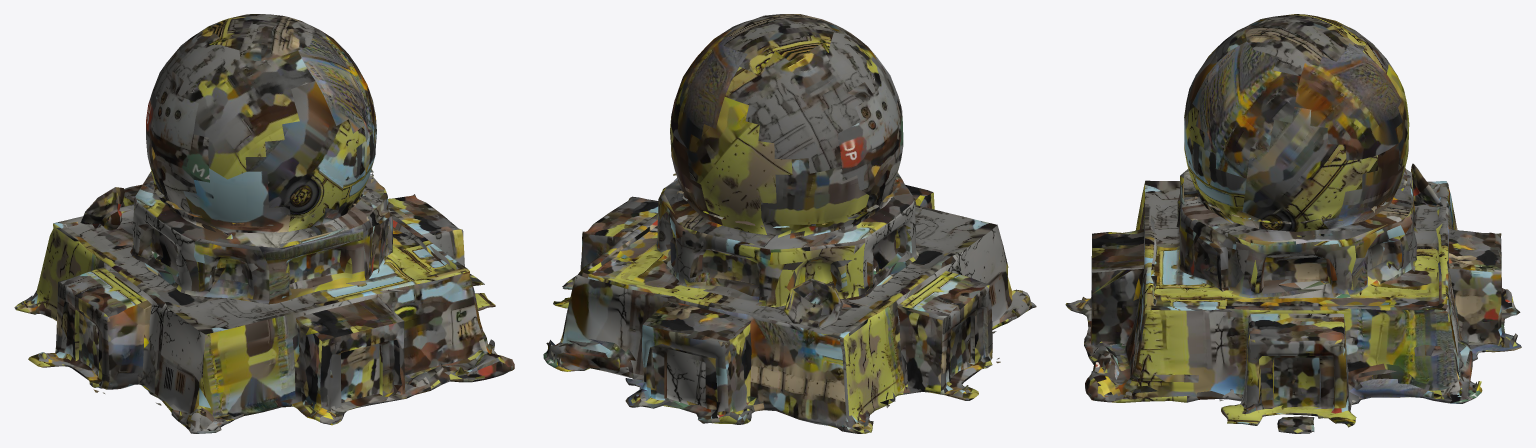
File: domo+geodésico+3d.fbx
The picture shows the model from 3 angles, left to right: view 1: azimuth 30°, elevation 25°; view 2: azimuth 150°, elevation 25°; view 3: azimuth 270°, elevation 25°; orthographic projection. The views are drawn at different scales.
Parts seen in each view (by area): view 1: tripo_node_dc60c37c; view 2: tripo_node_dc60c37c; view 3: tripo_node_dc60c37c.
Boxes of the visible parts, x1,y1,x2,y2 form: tripo_node_dc60c37c: [14, 14, 514, 433]; tripo_node_dc60c37c: [543, 14, 1036, 433]; tripo_node_dc60c37c: [1065, 14, 1521, 433].
Size of the model in its own units: 98.32 by 68.21 by 92.11.
